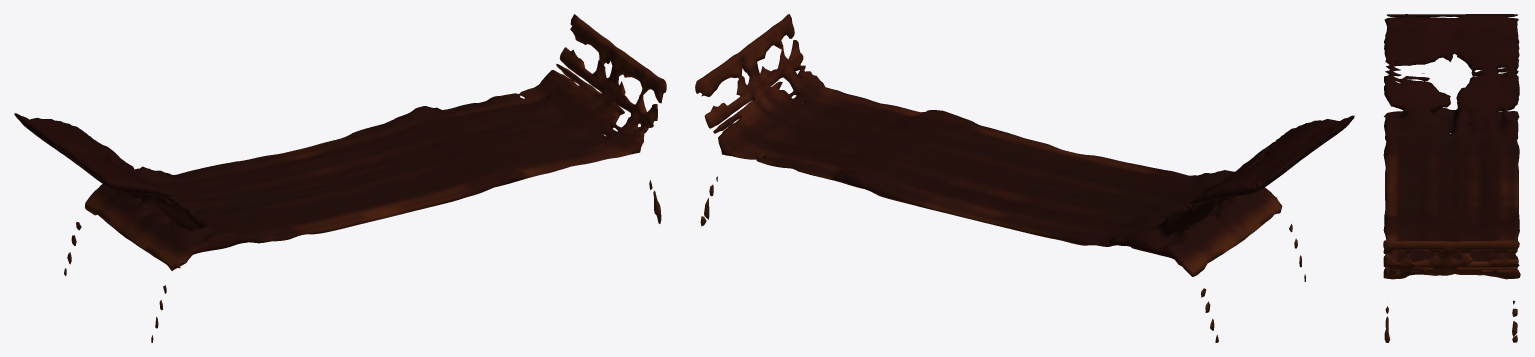
File: A curved two seater wooden seats which can be used.glb
The picture shows the model from 3 angles, left to right: view 1: azimuth 30°, elevation 25°; view 2: azimuth 150°, elevation 25°; view 3: azimuth 270°, elevation 25°; orthographic projection. The views are drawn at different scales.
Visible parts, largest first — view 1: A curved two seater wooden seats which can be used; view 2: A curved two seater wooden seats which can be used; view 3: A curved two seater wooden seats which can be used.
Boxes of the visible parts, x1,y1,x2,y2 form: A curved two seater wooden seats which can be used: (14,14,666,342); A curved two seater wooden seats which can be used: (695,14,1354,342); A curved two seater wooden seats which can be used: (1383,14,1520,342).
Size of the model in its own units: 1.98 by 0.6092 by 0.5758.
